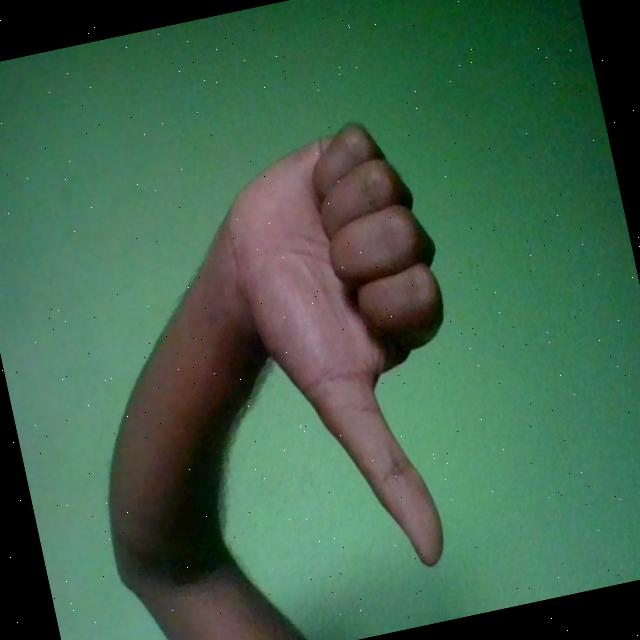Dislike: (206, 109, 499, 593)
